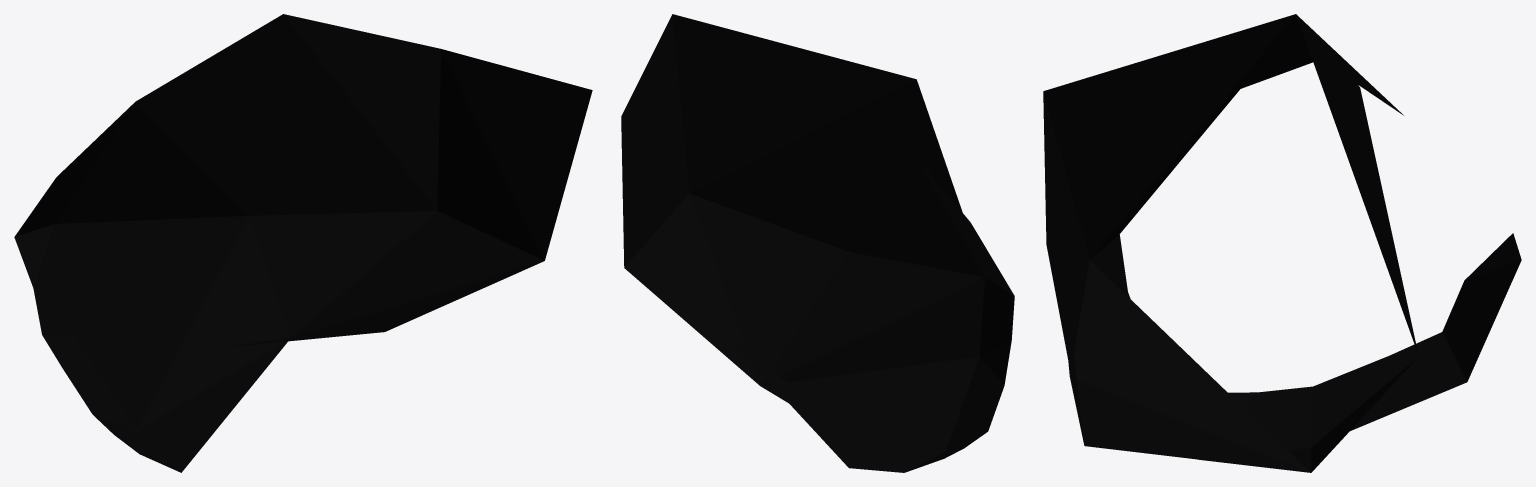
3 views of the same model, side by side, from view 1: azimuth 30°, elevation 25°; view 2: azimuth 150°, elevation 25°; view 3: azimuth 270°, elevation 25° (orthographic). The views are drawn at different scales.
Size of the model in its own units: 0.3964 by 0.356 by 0.3245.
Materials: 1 (1 with a texture image).
